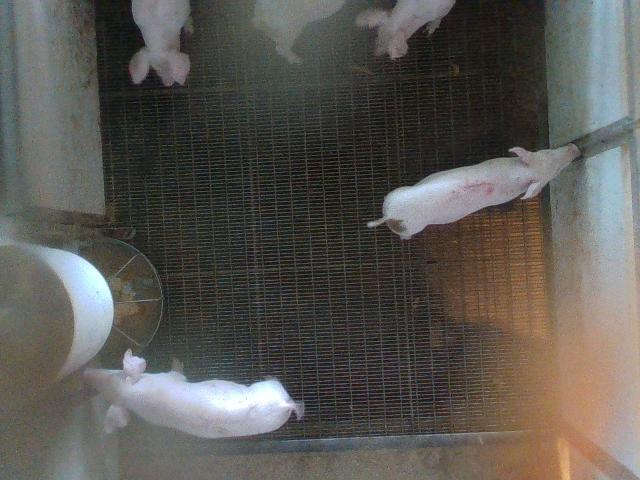pig-5: (368, 144, 580, 239)
